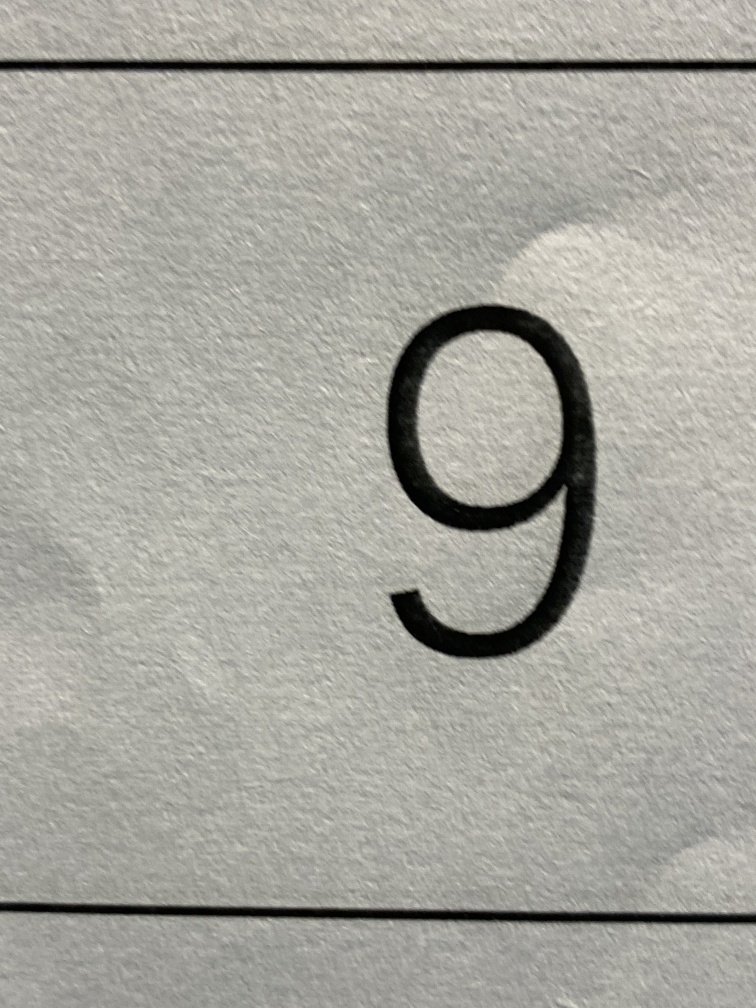nine: (318, 246, 675, 736)
